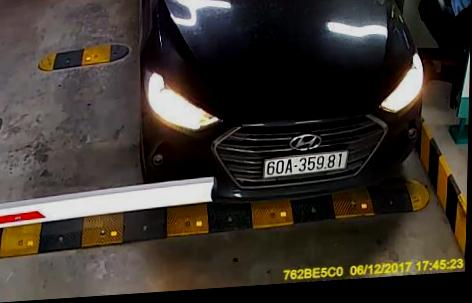License_Plate: (261, 145, 351, 182)
